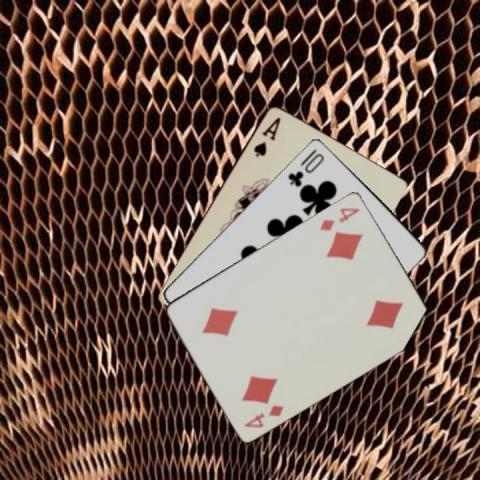10c: (285, 145, 326, 188)
4d: (316, 204, 360, 232), (242, 401, 286, 429)
As: (250, 113, 282, 158)
